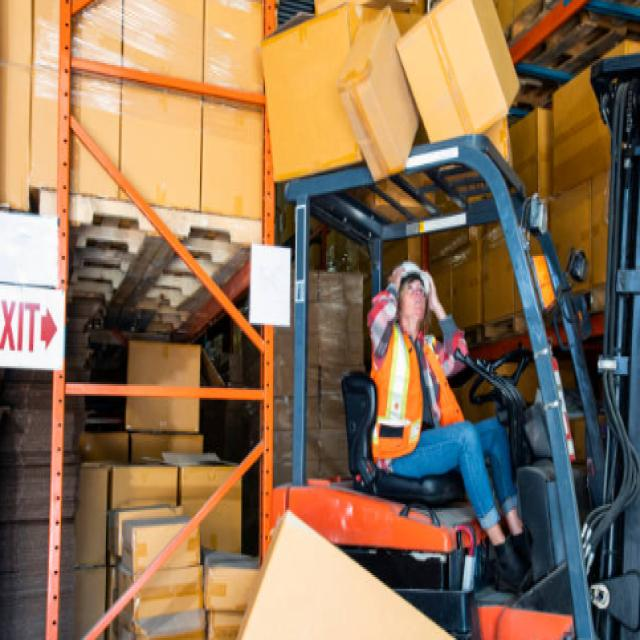boots: (483, 526, 563, 592)
helmet: (387, 254, 430, 324)
vest: (366, 326, 469, 469)
